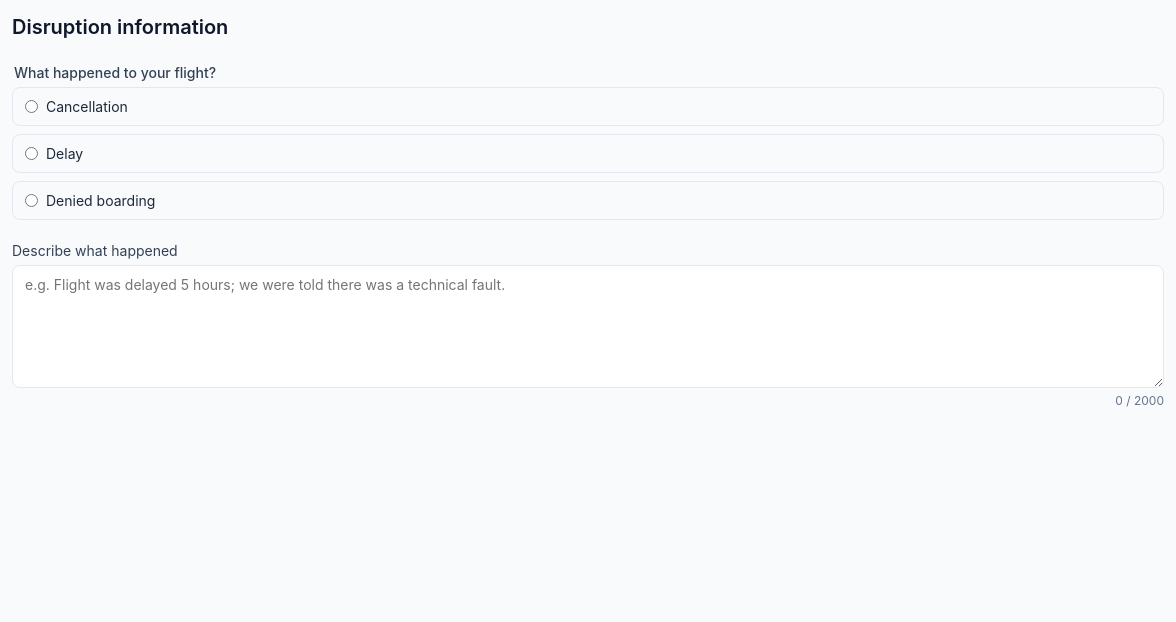
DisruptionInfoSection › reveals airline motive only when mentioned=YES
What coordinates should you click on to do the following:
click the radio button labelled "Delay"
I would click on:
 (32, 154)
Its box is [25,147,38,160].
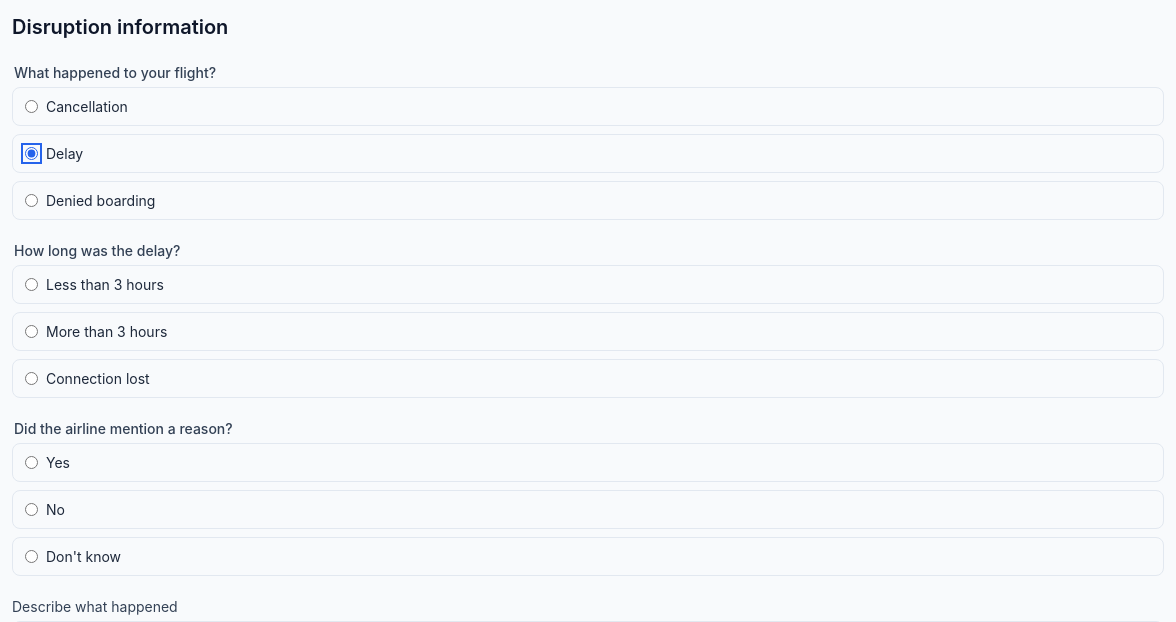
Expected: the text "which reason did the airline give" is not shown
Expected: the text "Did the airline mention a reason?" is shown, [12,418,235,439]
What coordinates should you click on to do the following:
click the radio button labelled "Yes"
I would click on:
 (32, 462)
Its box is [25,456,38,469].
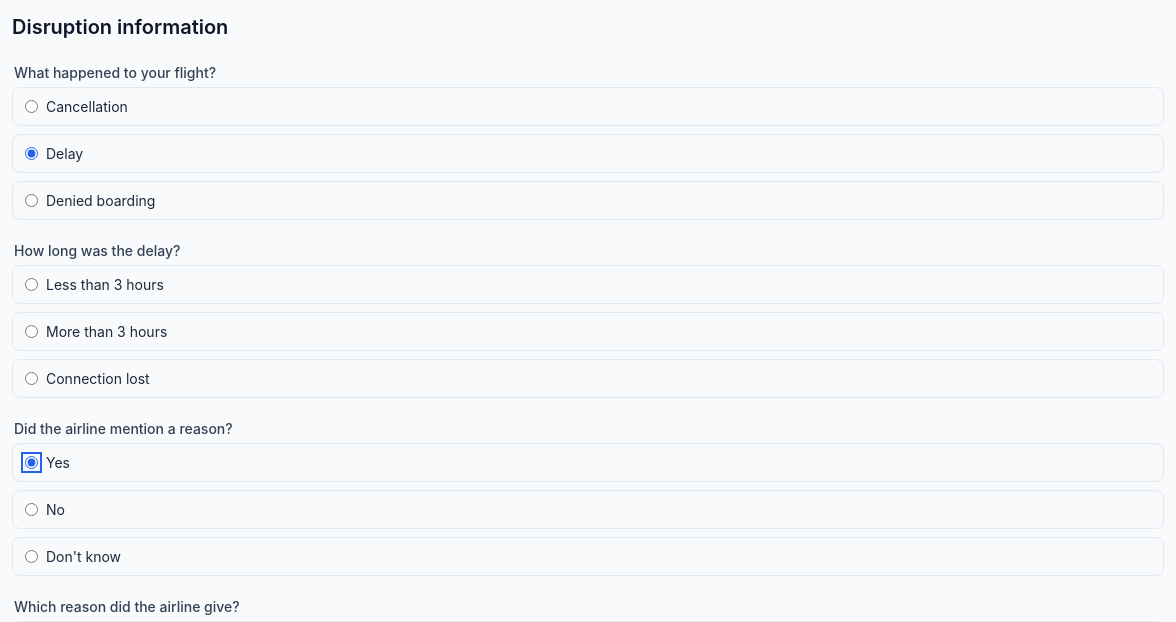
Expected: the text "Which reason did the airline give?" is shown, [12,596,242,617]
